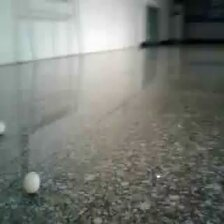tennis: (138, 107, 161, 139), (44, 77, 62, 101), (50, 53, 64, 70)
